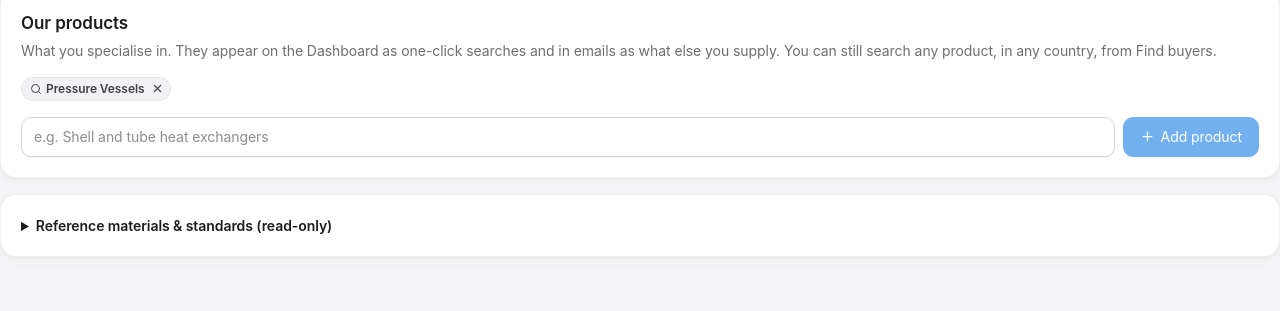
Scenario: Editable Catalogue › keeps the product and shows an error when removal fails
Click the button named "Remove Pressure Vessels" at (157, 88), box [148,80,166,97]
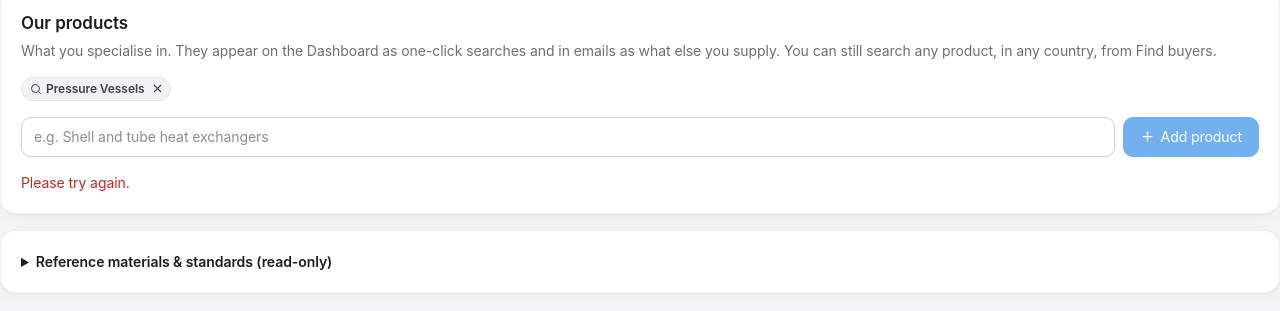
Check: the link "Pressure Vessels" is shown, box [30,80,144,98]
Check: the message reads "Please try again.", box [21,174,130,190]
